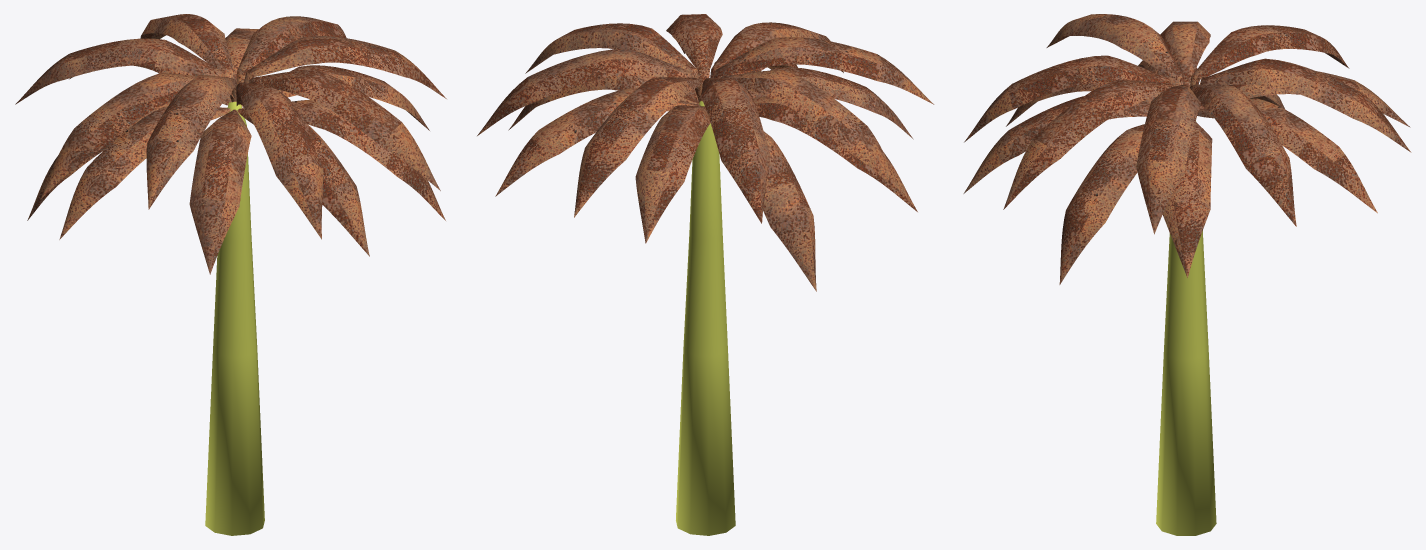
Rendered from ヤシの木.fbx.
3 renders of one model, left to right at view 1: azimuth 30°, elevation 25°; view 2: azimuth 150°, elevation 25°; view 3: azimuth 270°, elevation 25°, orthographic.
Parts seen in each view (by area): view 1: 木, 木.001; view 2: 木, 木.001; view 3: 木, 木.001.
Boxes of the visible parts, x1,y1,x2,y2 form: 木: [15, 14, 446, 274]; 木.001: [205, 101, 264, 535]; 木: [477, 14, 934, 291]; 木.001: [676, 101, 735, 535]; 木: [963, 14, 1411, 284]; 木.001: [1156, 121, 1216, 535].
Bounding box in the file's own units: 84.36 × 97.33 × 84.23.
2 materials, 1 textured.
